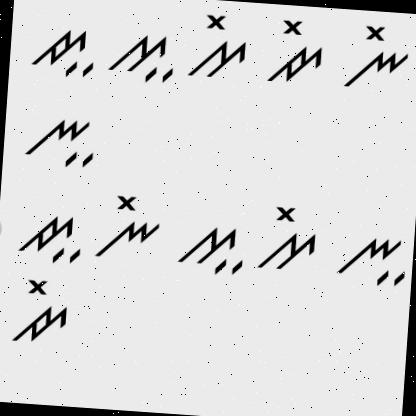jah: (10, 206, 86, 272), (30, 20, 98, 83)
jo: (9, 274, 74, 348), (266, 12, 328, 88)
nyah: (334, 224, 411, 290), (23, 113, 98, 174)
nyo: (344, 19, 414, 93), (96, 190, 164, 264)
sah: (174, 216, 249, 276), (107, 26, 178, 86)
so: (256, 202, 326, 279), (185, 12, 252, 84)
